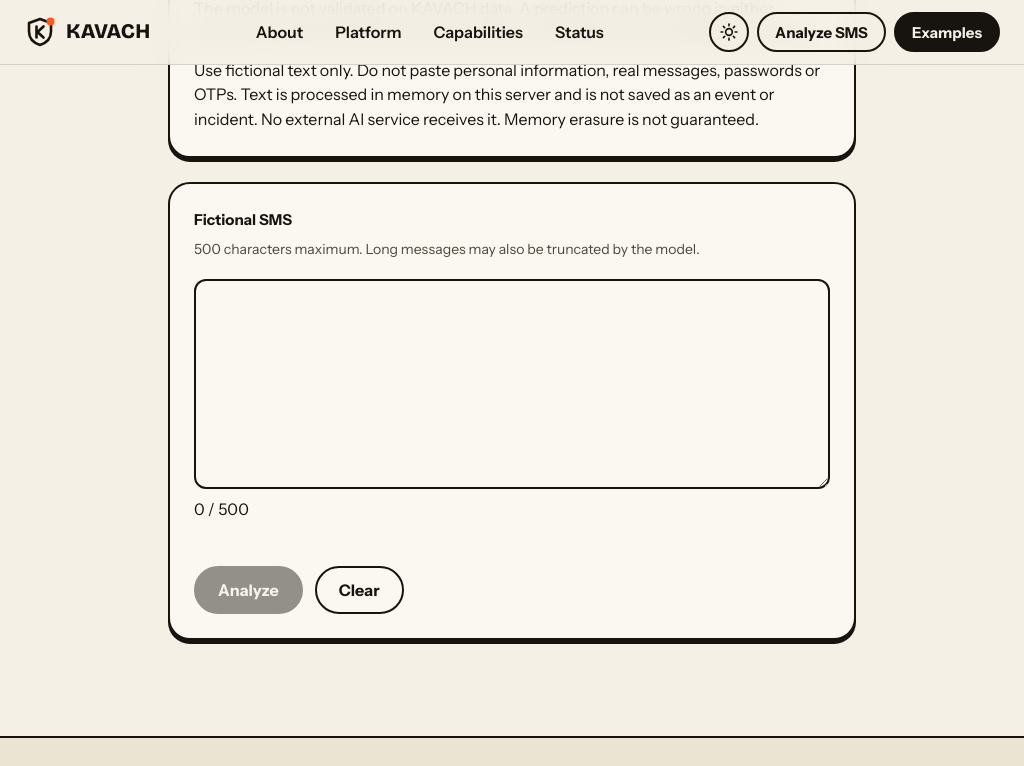
Scenario: anonymous analyzer › submits once without cookies, shows actual response and clears input
This screenshot has width=1024, height=766.
(page scrolled)
Type "FICTIONAL TEST: dinner" into the text box labelled "Fictional SMS" at (512, 384), box [194,279,830,489]
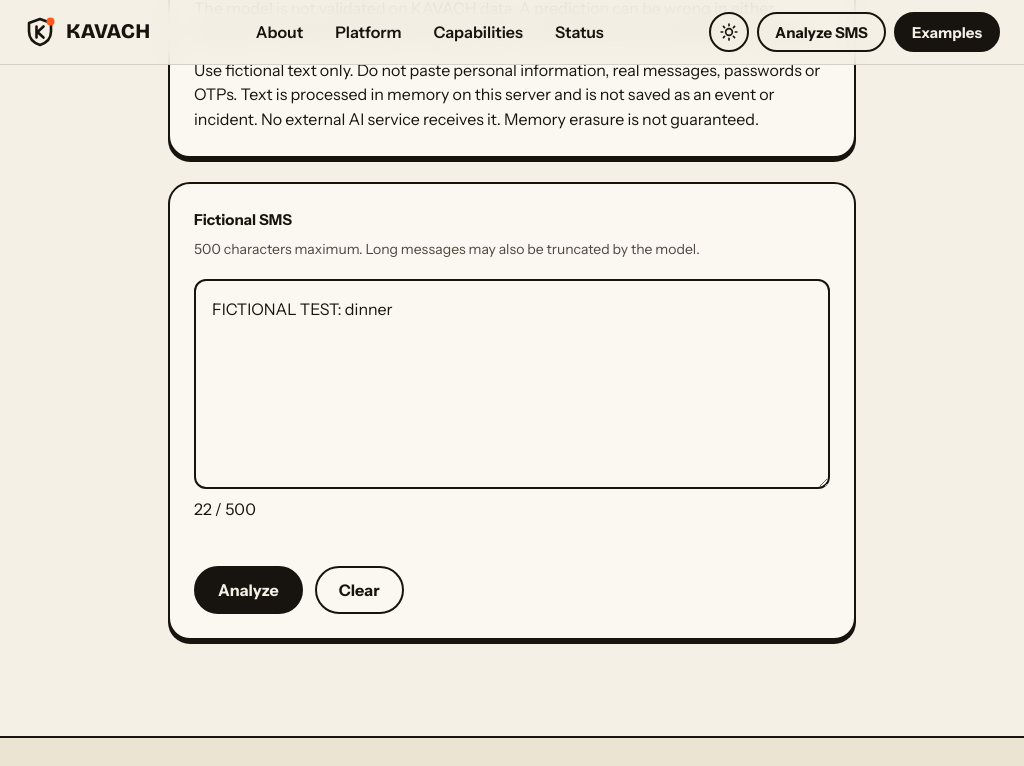
Click the button "Analyze" at (248, 590), box [194,566,303,614]
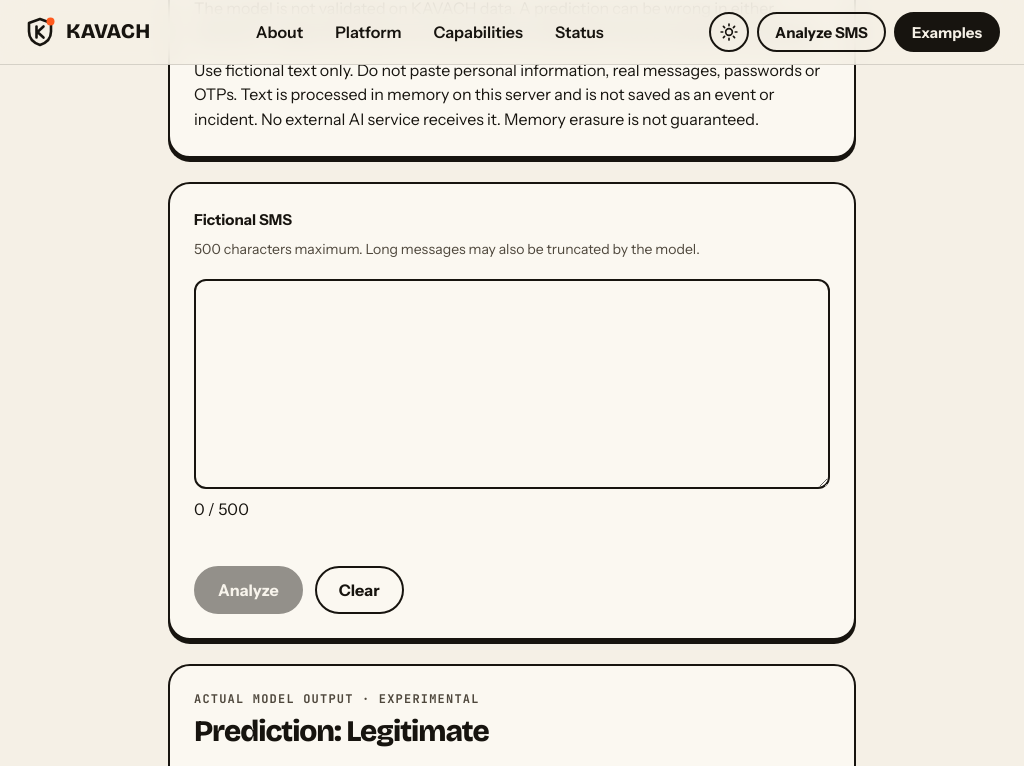
Expected: the heading "Prediction: Legitimate" is shown, [194,713,489,749]
Expected: the text box labelled "Fictional SMS" is empty
Type "edited" into the text box labelled "Fictional SMS" at (512, 384), box [194,279,830,489]
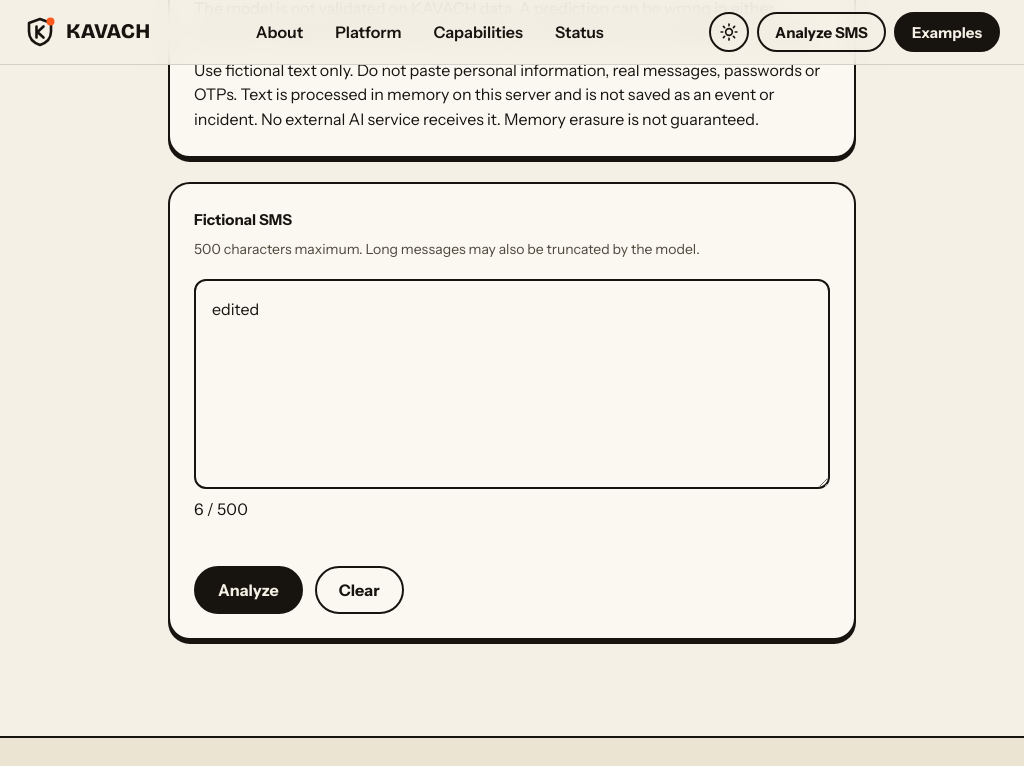
Expected: the heading "Prediction:" is gone
